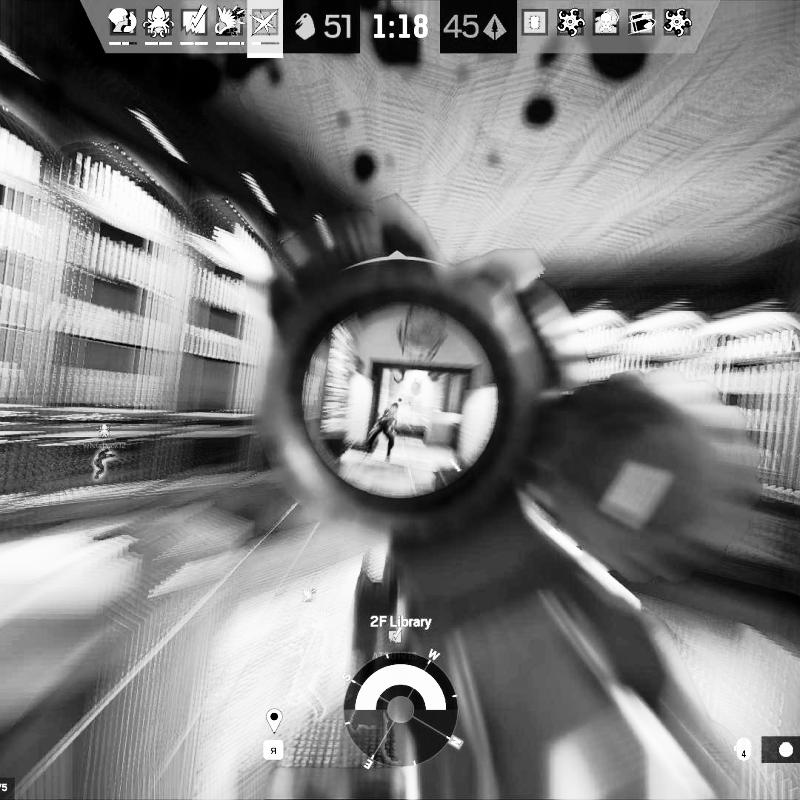Character: (362, 400, 401, 463)
Friend_label: (274, 586, 336, 622), (373, 624, 424, 660), (80, 422, 128, 452)
Head: (390, 402, 398, 413)
